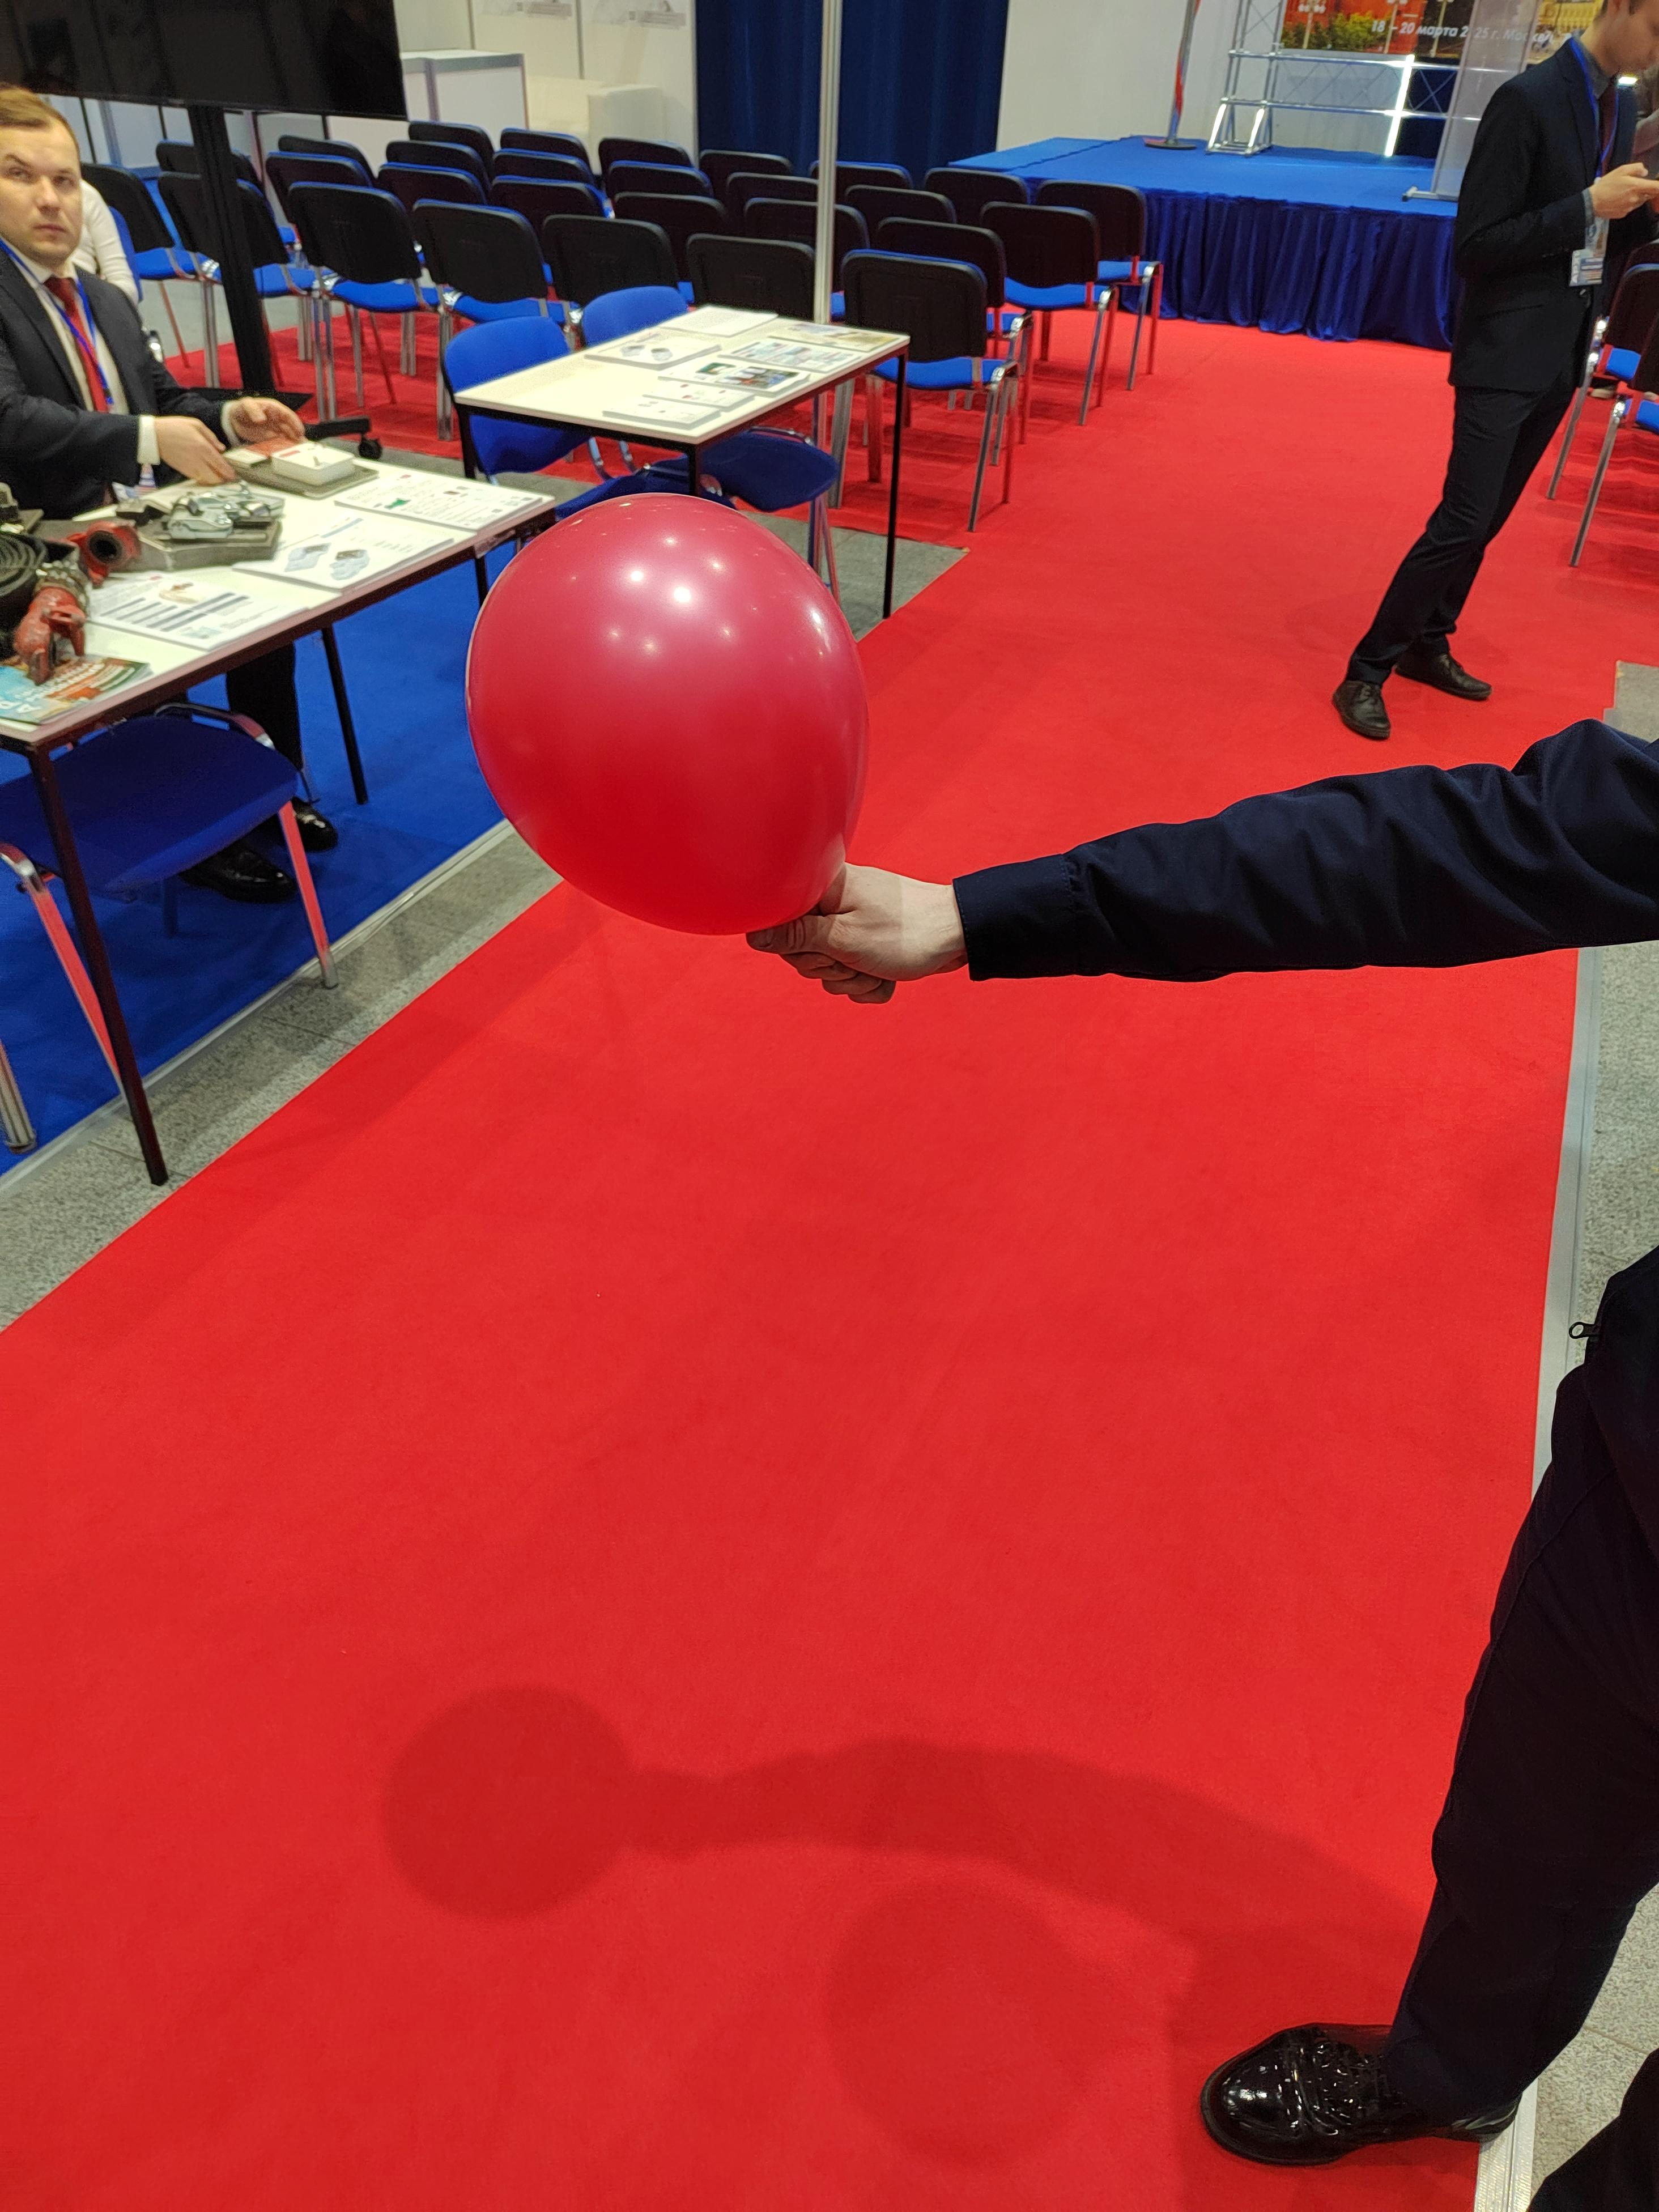red: (443, 472, 880, 942)
